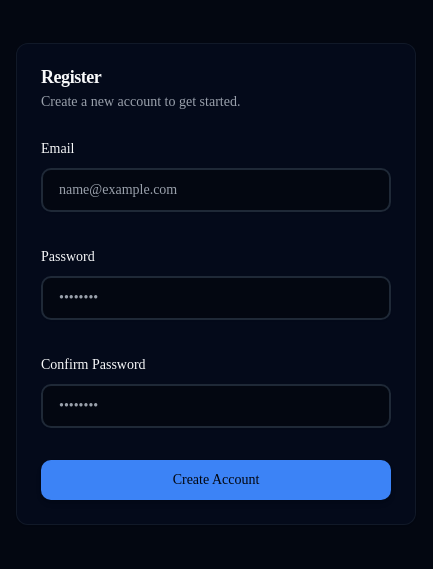
Test case: RegisterPage › shows validation error for mismatched passwords
Type "password123" into the password field labelled "Password" at (216, 298), box x1=41 y1=276 x2=391 y2=320
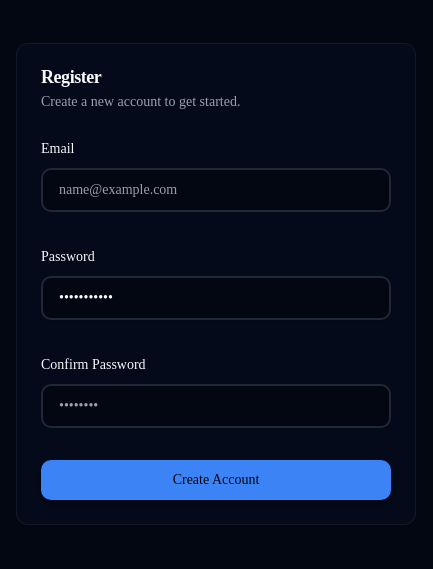
Type "password456" into the password field labelled "Confirm Password" at (216, 406), box x1=41 y1=384 x2=391 y2=428
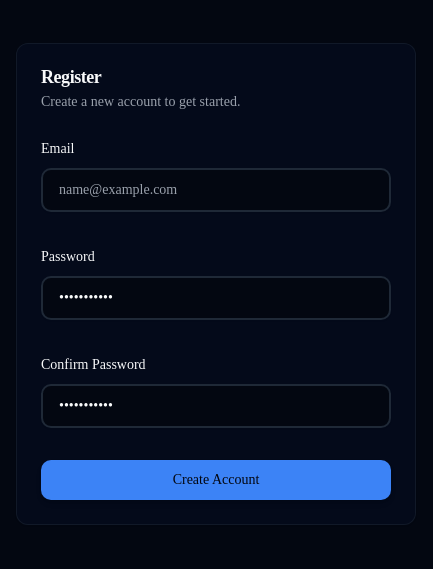
Click the button "Create Account" at (216, 480), box x1=41 y1=460 x2=391 y2=500
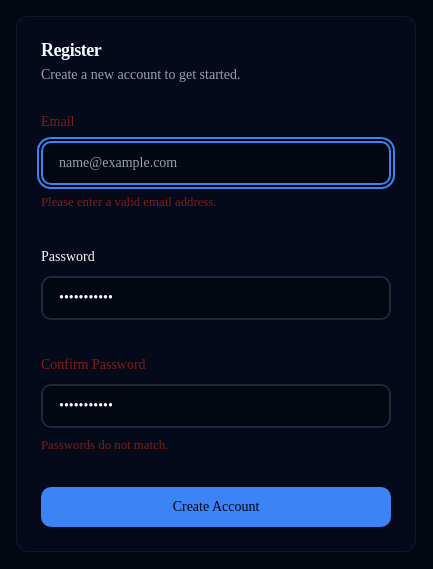
Check: the text "Passwords do not match." is shown, box x1=41 y1=438 x2=168 y2=452
